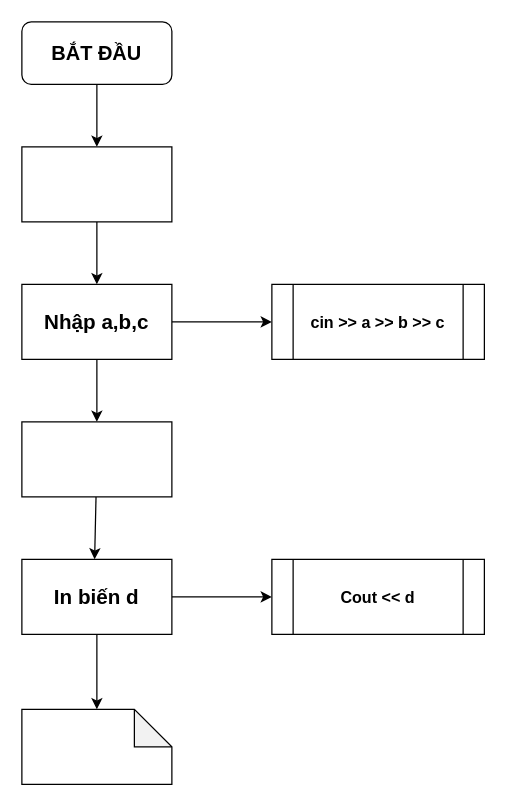
This 506x806 diagram has some shape labels left out. Here are the shapes that lost their labels. From the top down, the centre of each, then its label:
(96,184): Khai Báo a,b,c,d
(96,459): d=a+b+c
(96,746): Kết QUả
